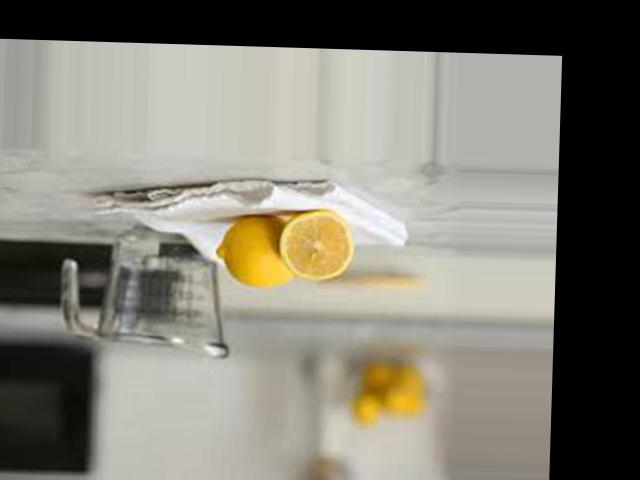lemon: (200, 203, 308, 293)
